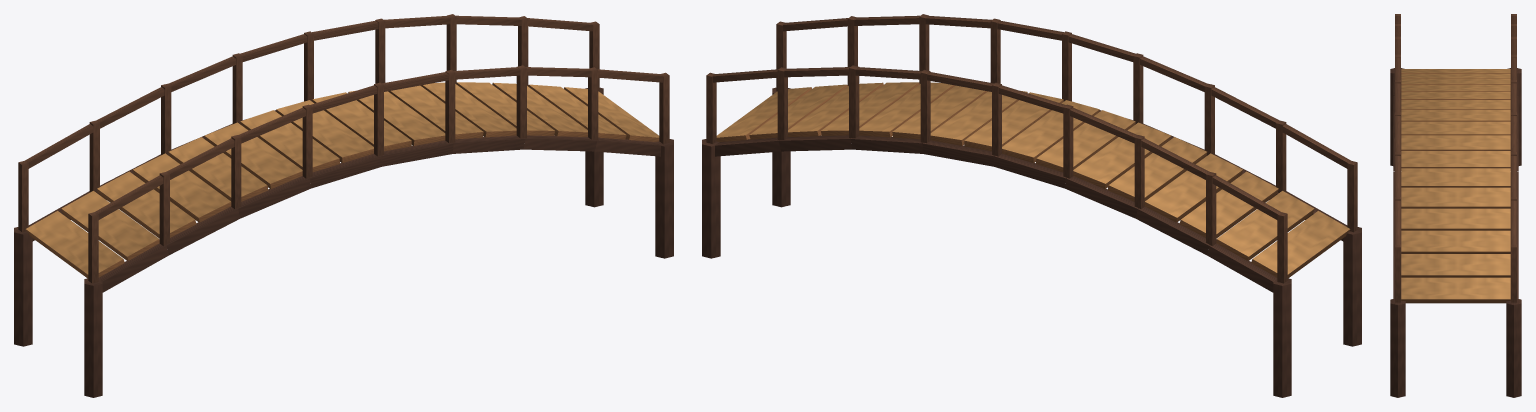
The model's file is walk_bridge_wood_01.glb.
3 views of the same model, side by side, from view 1: azimuth 30°, elevation 25°; view 2: azimuth 150°, elevation 25°; view 3: azimuth 270°, elevation 25° (orthographic). The views are drawn at different scales.
Parts seen in each view (by area): view 1: walk_bridge_wood_01; view 2: walk_bridge_wood_01; view 3: walk_bridge_wood_01.
Part boxes in pixels (x1=…): walk_bridge_wood_01: x1=14, y1=14, x2=673, y2=397; walk_bridge_wood_01: x1=702, y1=14, x2=1361, y2=397; walk_bridge_wood_01: x1=1390, y1=14, x2=1521, y2=397.
Bounding box in the file's own units: 8.26 × 3.2 × 1.93.
1 material, 1 textured.
